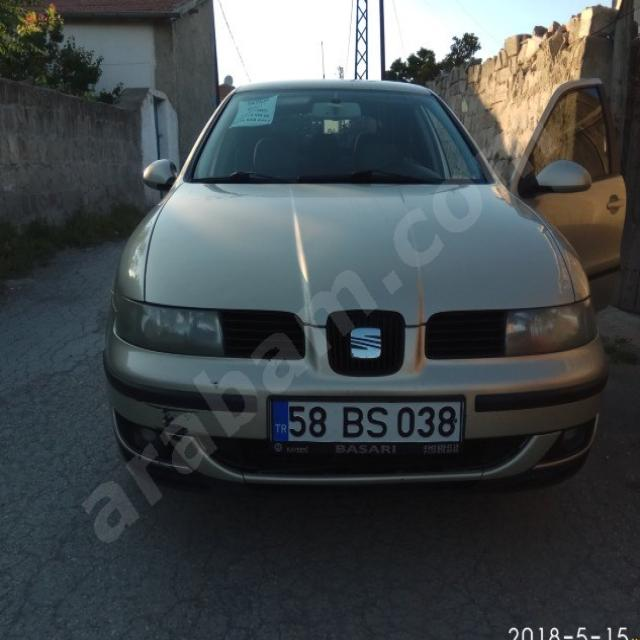license_plate: (268, 398, 462, 443)
